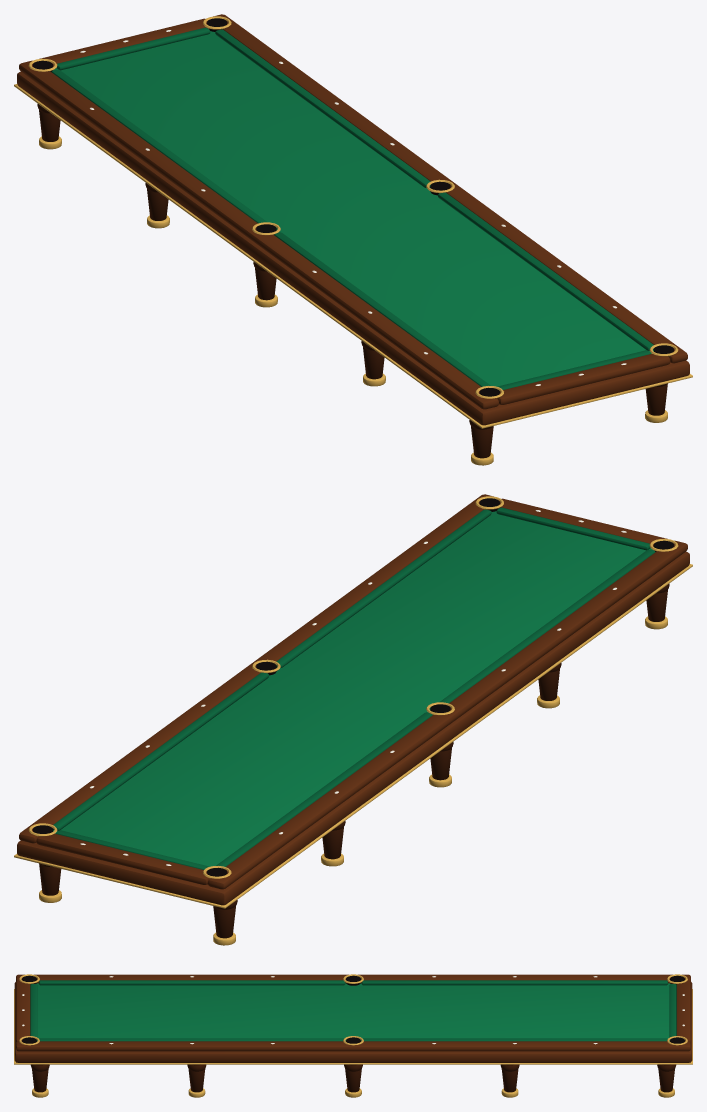
File: PlazaTable9.fbx
The picture shows the model from 3 angles, top to bottom: view 1: azimuth 30°, elevation 25°; view 2: azimuth 150°, elevation 25°; view 3: azimuth 270°, elevation 25°; orthographic projection. The views are drawn at different scales.
Parts seen in each view (by area): view 1: PlazaTable9; view 2: PlazaTable9; view 3: PlazaTable9.
Boxes of the visible parts, x1=… form: PlazaTable9: x1=14, y1=14, x2=692, y2=465; PlazaTable9: x1=14, y1=494, x2=692, y2=945; PlazaTable9: x1=14, y1=974, x2=692, y2=1097.
Bounding box in the file's own units: 962 × 326 × 3692.
